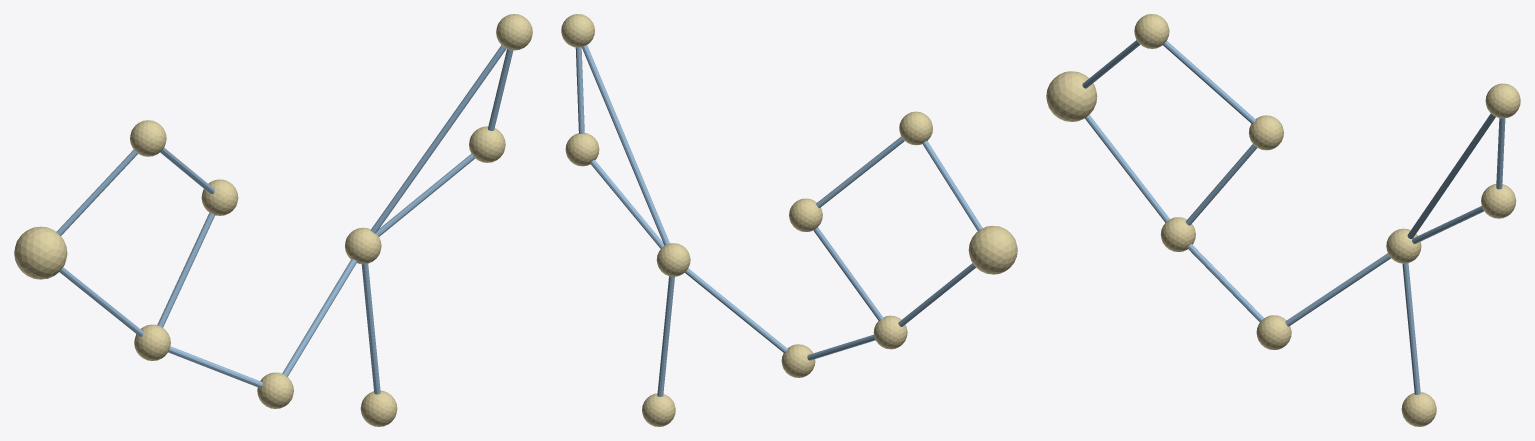
Rendered from peixes.glb.
The picture shows the model from 3 angles, left to right: view 1: azimuth 30°, elevation 25°; view 2: azimuth 150°, elevation 25°; view 3: azimuth 330°, elevation 25°; orthographic projection. The views are drawn at different scales.
Visible parts, largest first — view 1: world; view 2: world; view 3: world.
Boxes of the visible parts, x1,y1,x2,y2 form: world: (14, 14, 532, 426); world: (561, 14, 1017, 426); world: (1046, 14, 1520, 426).
Bounding box in the file's own units: 3.14 × 2.4 × 0.4626.
